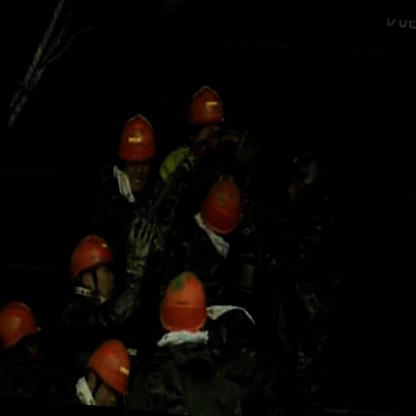helmet: (150, 264, 214, 346), (62, 226, 127, 306), (76, 328, 136, 408), (192, 170, 249, 253), (110, 104, 164, 190), (178, 77, 233, 161), (0, 293, 49, 366)
